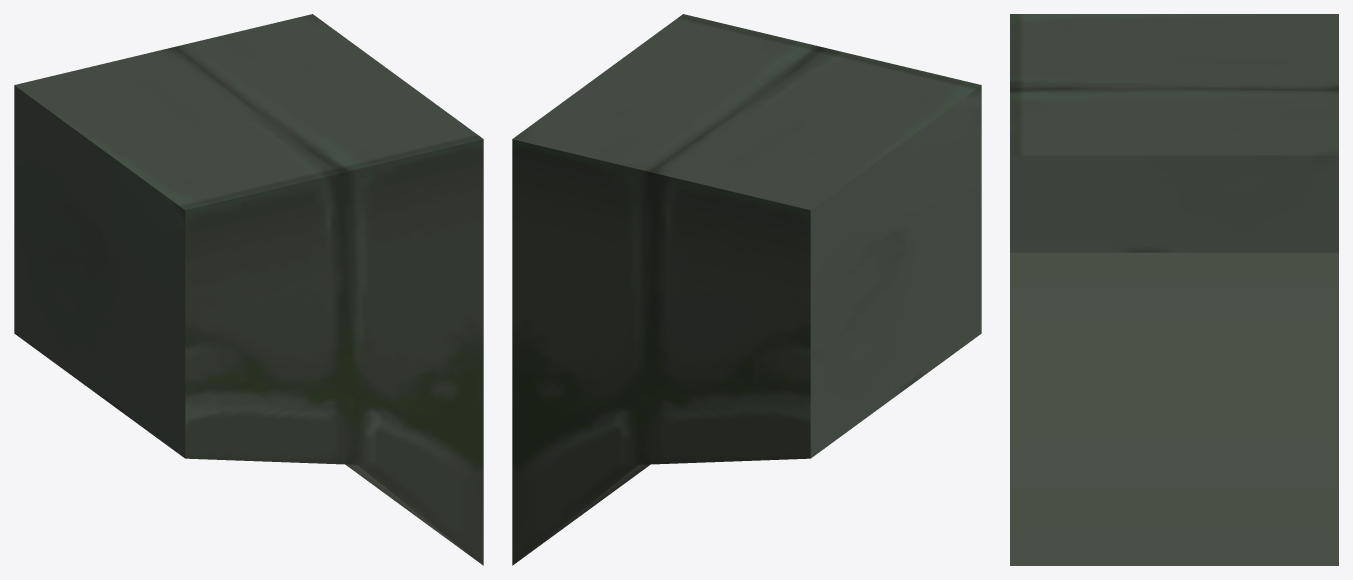
The model's file is yw_shanlin_stelae_004.FBX.
3 views of the same model, side by side, from view 1: azimuth 30°, elevation 25°; view 2: azimuth 150°, elevation 25°; view 3: azimuth 270°, elevation 25° (orthographic). The views are drawn at different scales.
Parts seen in each view (by area): view 1: yw_shanlin_stelae_004; view 2: yw_shanlin_stelae_004; view 3: yw_shanlin_stelae_004.
Boxes of the visible parts, left/top/right/bottom form: yw_shanlin_stelae_004: left=14, top=14, right=483, bottom=565; yw_shanlin_stelae_004: left=512, top=14, right=981, bottom=565; yw_shanlin_stelae_004: left=1010, top=14, right=1338, bottom=565.
Size of the model in its own units: 152 by 151 by 209.
